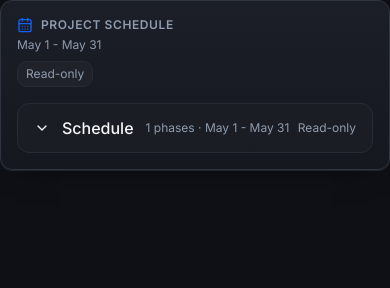
Scenario: ProjectScheduleTimeline › renders a forced read-only schedule without drag or mobile editing controls
Later steps or results of the test are not shown.
expect the text "Read-only" below "Project Schedule" is shown: met, box [26,66,84,81]
Click the button "Schedule 1 phases · May 1 - May 31 Read-only" at (195, 128), box [17,103,373,153]
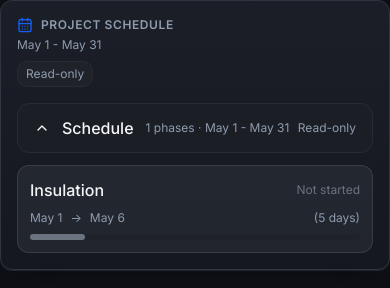
expect the button "Insulation Not started May 1 → May 6 (5 days)" is shown: met, box [17,165,373,253]
